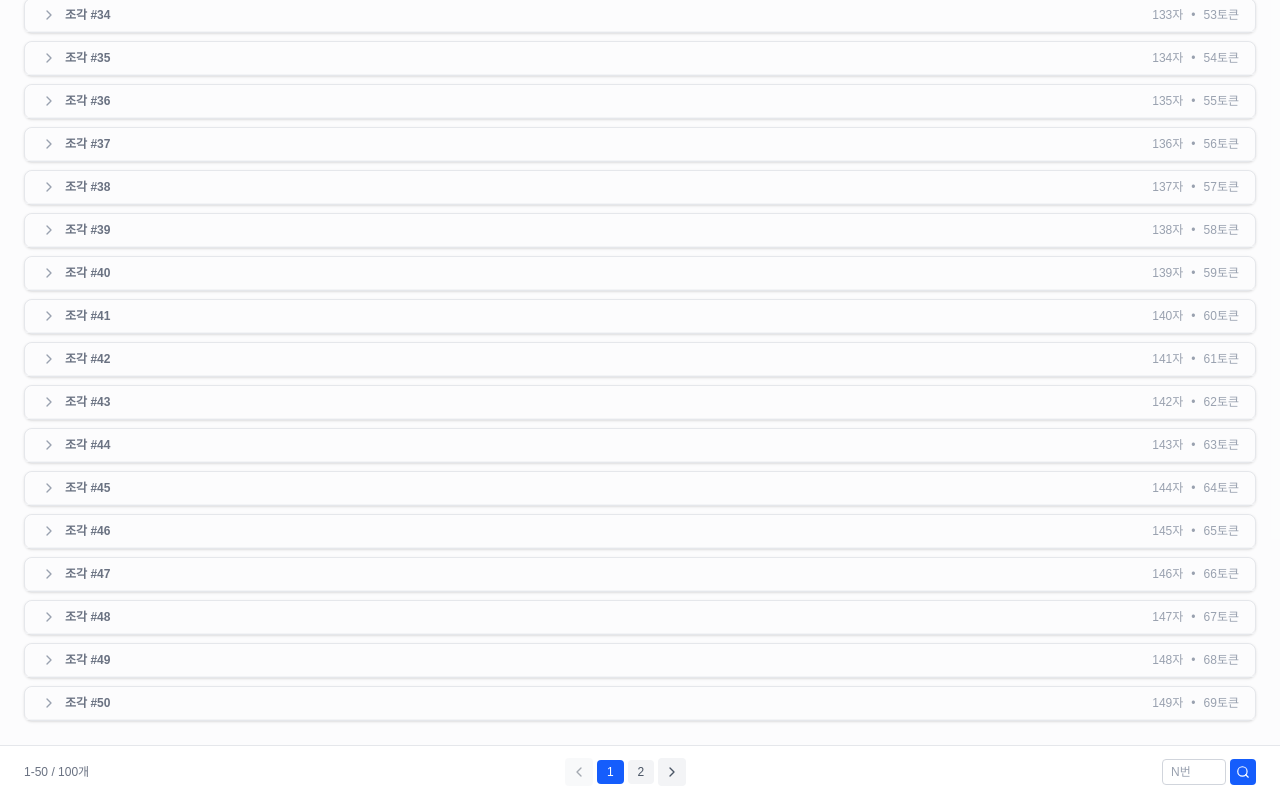
Test: ChunkPreviewList › 페이지네이션 › N번 조각으로 이동 기능이 동작한다
(page scrolled)
입력 필드에 75 입력
Type "75" into the number field with placeholder "N번". click: [1194, 772]
box: [1162, 759, 1226, 785]
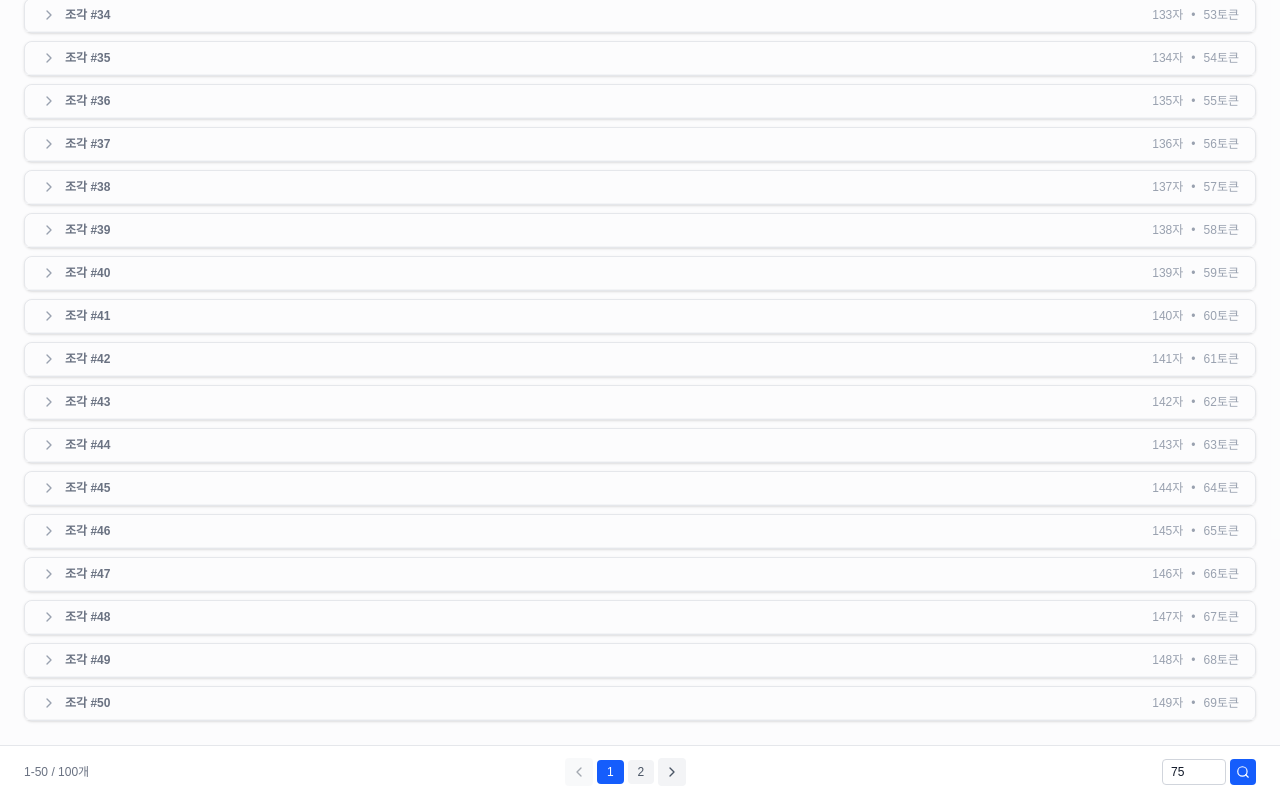
Click the button named "이동". click: [1243, 772]
box: [1230, 759, 1256, 785]
(page scrolled)
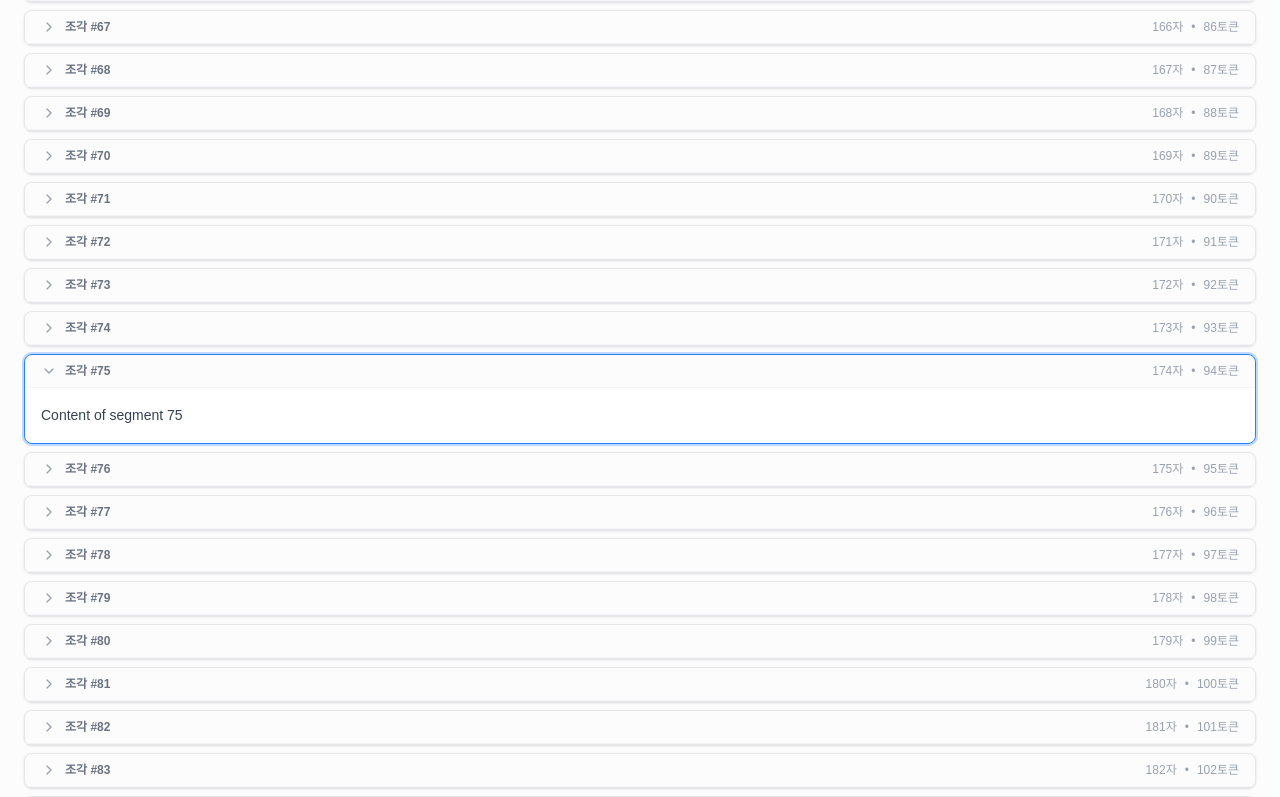
Expected: the text "조각 #75" is shown, [65, 363, 110, 379]
Expected: the text "Content of segment 75" is shown, [41, 407, 183, 423]
